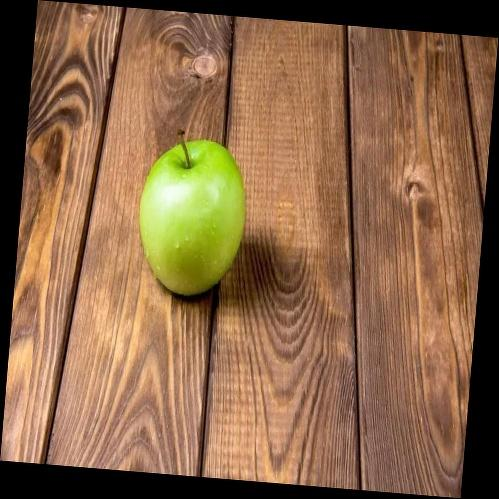green apple: (139, 134, 257, 299)
